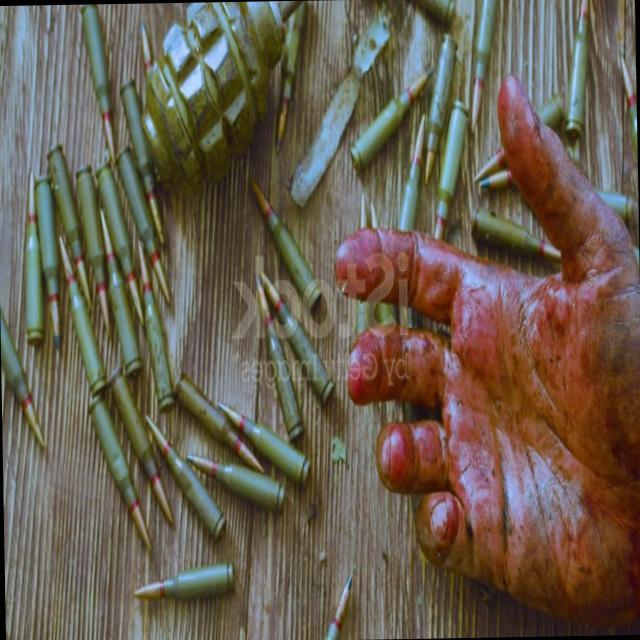grenade: (132, 4, 279, 192)
